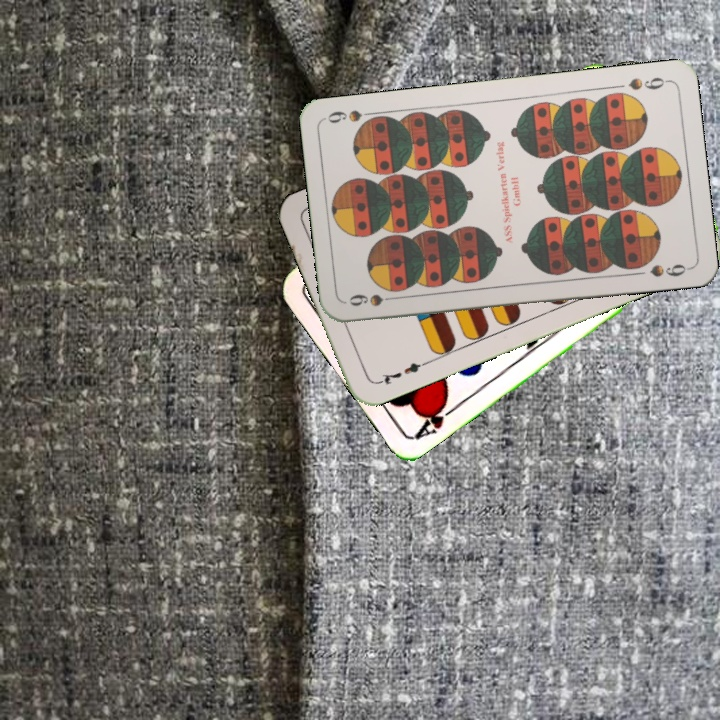E7: (372, 358, 429, 387)
HA: (411, 395, 462, 442)
S9: (344, 290, 403, 309), (624, 73, 671, 93)
